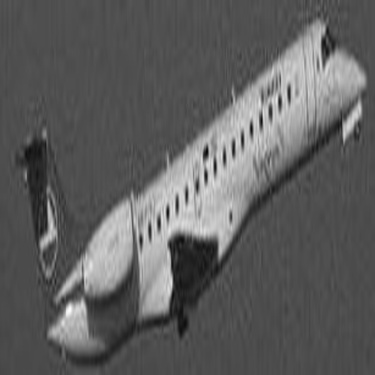airplane: (8, 5, 370, 371)
